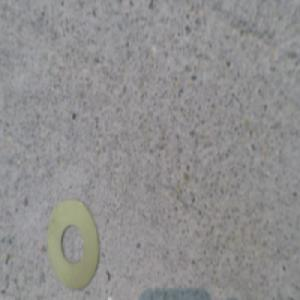Washer: (48, 200, 99, 287)
